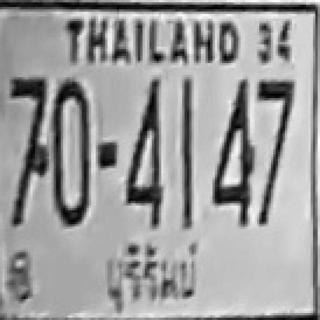N00: (51, 77, 89, 166)
N04: (213, 77, 252, 164)
N07: (255, 77, 294, 166)
P06: (95, 240, 204, 309)
